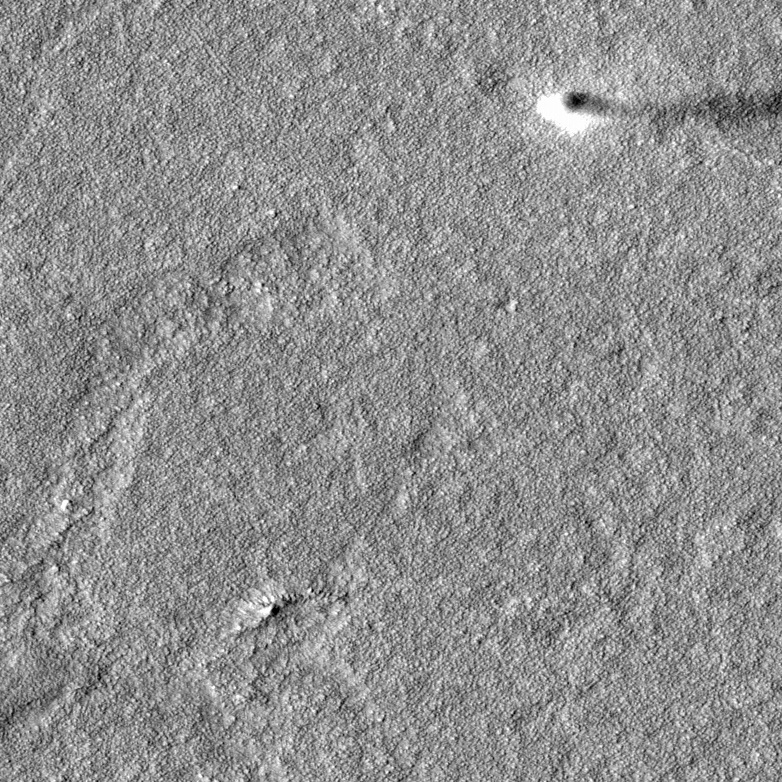dust_devil: (532, 81, 782, 140)
